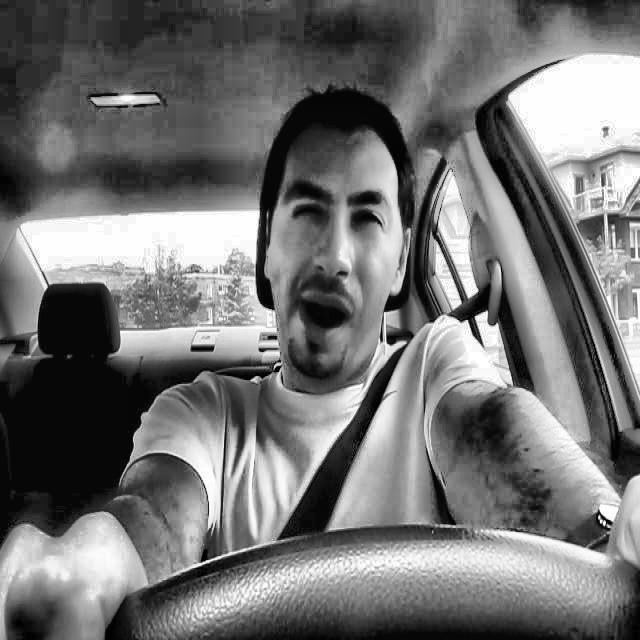closed_eyes: (278, 193, 332, 235), (341, 200, 391, 243)
open_mouth: (285, 279, 368, 351)
